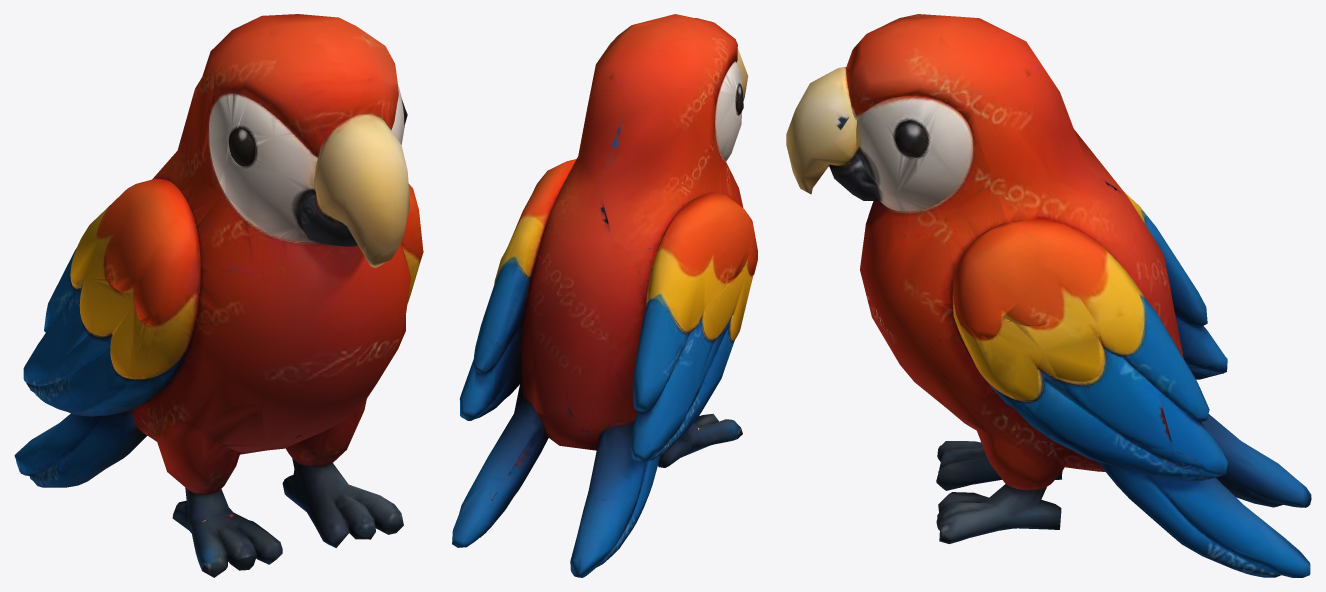
The model's file is parrot_pbr.glb.
3 views of the same model, side by side, from view 1: azimuth 30°, elevation 25°; view 2: azimuth 150°, elevation 25°; view 3: azimuth 270°, elevation 25° (orthographic). The views are drawn at different scales.
Parts seen in each view (by area): view 1: model; view 2: model; view 3: model.
Boxes of the visible parts, x1,y1,x2,y2 form: model: (14, 14, 423, 577); model: (452, 14, 757, 577); model: (786, 14, 1311, 577).
Bounding box in the file's own units: 0.8883 × 1.72 × 1.59.
Materials: 1 (1 with a texture image).
